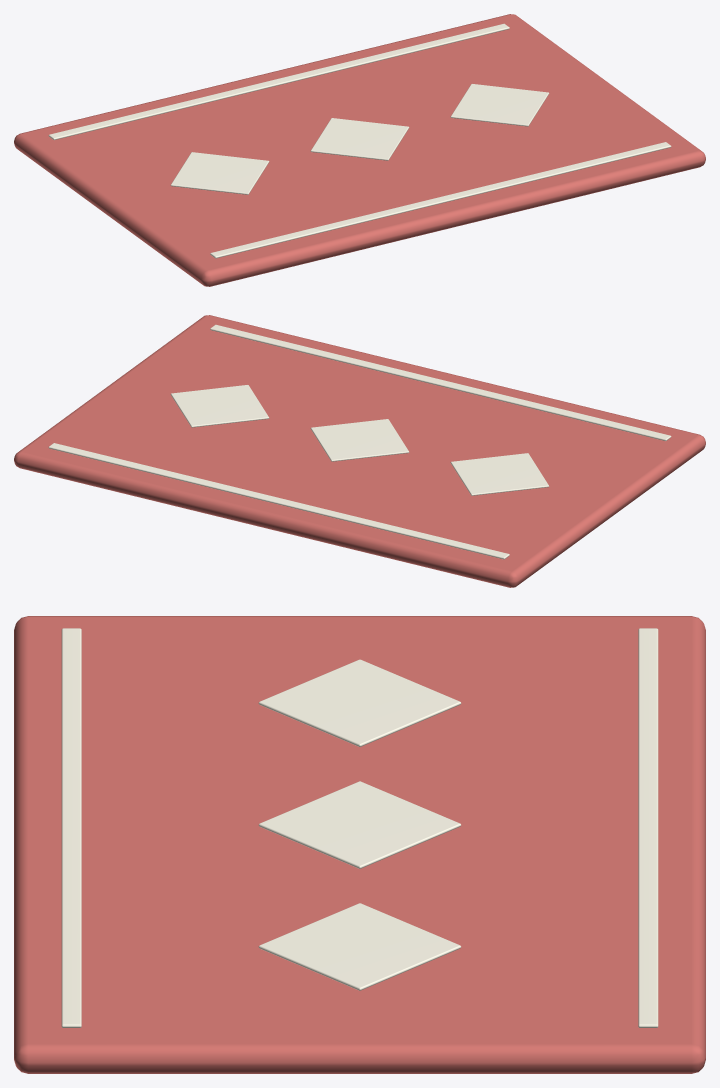
The model's file is carpetRed.glb.
3 renders of one model, top to bottom at view 1: azimuth 30°, elevation 25°; view 2: azimuth 150°, elevation 25°; view 3: azimuth 270°, elevation 25°, orthographic. The views are drawn at different scales.
Visible parts, largest first — view 1: Rug, Rug border, Rug border.001, Rug motif, Rug motif.001, Rug motif.002; view 2: Rug, Rug border, Rug border.001, Rug motif, Rug motif.001, Rug motif.002; view 3: Rug, Rug motif.002, Rug motif.001, Rug motif, Rug border, Rug border.001.
Part boxes in pixels (x1,y1,x2,y2): Rug: (14, 14, 705, 286); Rug border: (210, 142, 671, 258); Rug border.001: (48, 23, 509, 140); Rug motif: (170, 152, 269, 194); Rug motif.001: (310, 118, 409, 160); Rug motif.002: (450, 84, 549, 126); Rug: (14, 315, 705, 587); Rug border: (210, 324, 671, 441); Rug border.001: (48, 443, 509, 559); Rug motif: (450, 453, 549, 495); Rug motif.001: (310, 419, 409, 461); Rug motif.002: (170, 385, 269, 427); Rug: (14, 616, 705, 1073); Rug motif.002: (258, 903, 461, 990); Rug motif.001: (258, 781, 461, 868); Rug motif: (258, 659, 461, 746); Rug border: (61, 628, 81, 1027); Rug border.001: (638, 628, 658, 1027).
Size of the model in its own units: 1.8 by 0.0685 by 1.2.
